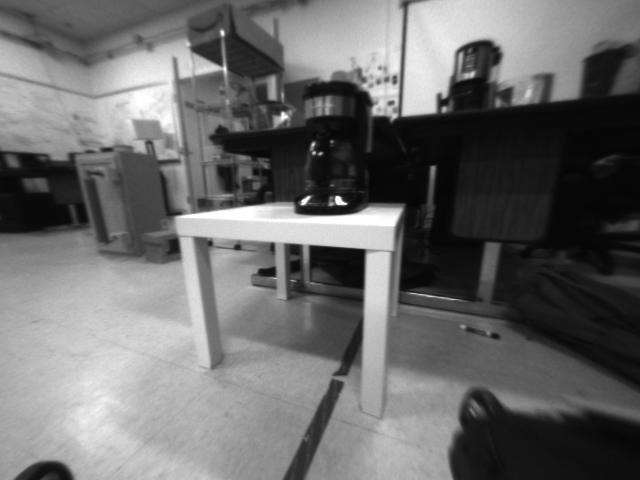coffee_pot: (291, 77, 377, 219)
